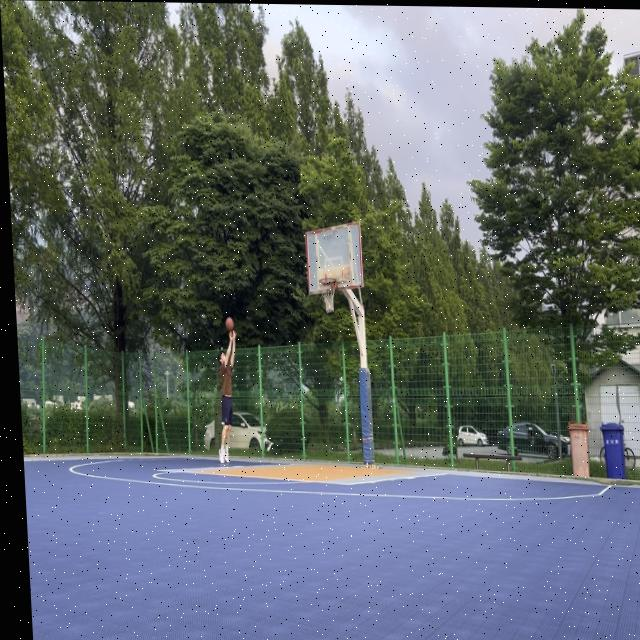basketball: (225, 316, 235, 332)
hoop: (318, 277, 339, 314)
